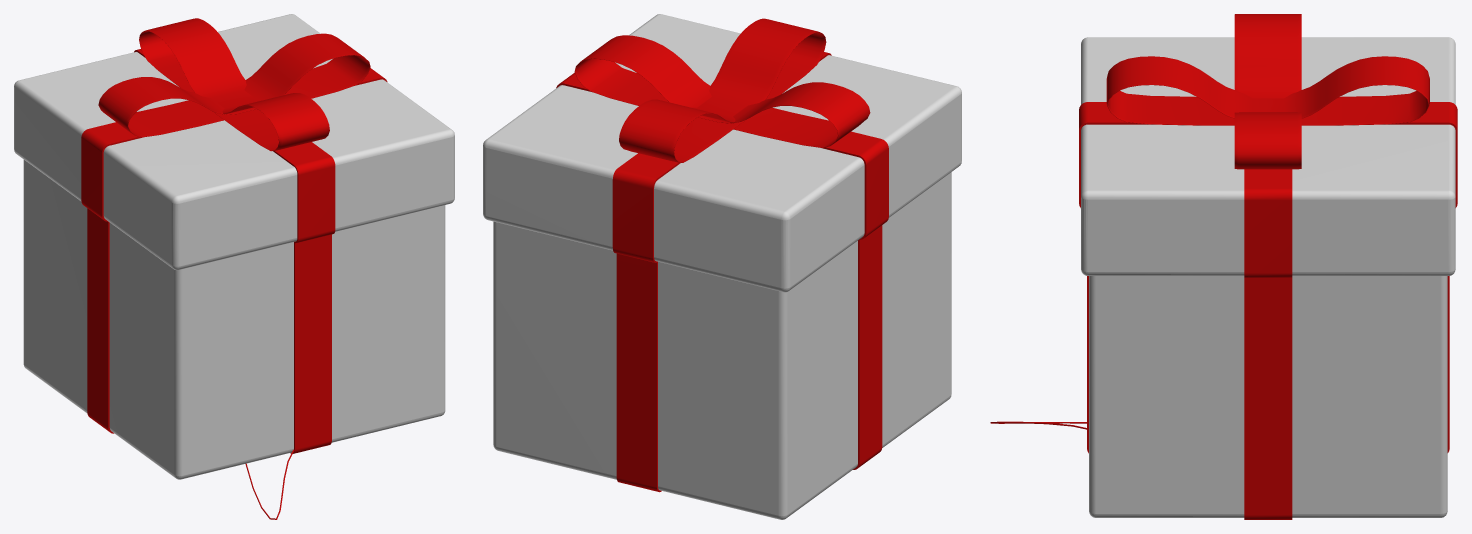
3 renders of one model, left to right at view 1: azimuth 30°, elevation 25°; view 2: azimuth 150°, elevation 25°; view 3: azimuth 270°, elevation 25°, orthographic. The views are drawn at different scales.
Parts seen in each view (by area): view 1: ChamferBox, ChamferBo0; view 2: ChamferBox, ChamferBo0; view 3: ChamferBox, ChamferBo0.
Part boxes in pixels (x1,y1,x2,y2): ChamferBox: [14, 14, 454, 479]; ChamferBo0: [81, 18, 387, 453]; ChamferBox: [483, 14, 961, 519]; ChamferBo0: [556, 18, 888, 492]; ChamferBox: [1081, 37, 1455, 517]; ChamferBo0: [1079, 14, 1457, 519].
Size of the model in its own units: 120 by 139 by 148.
